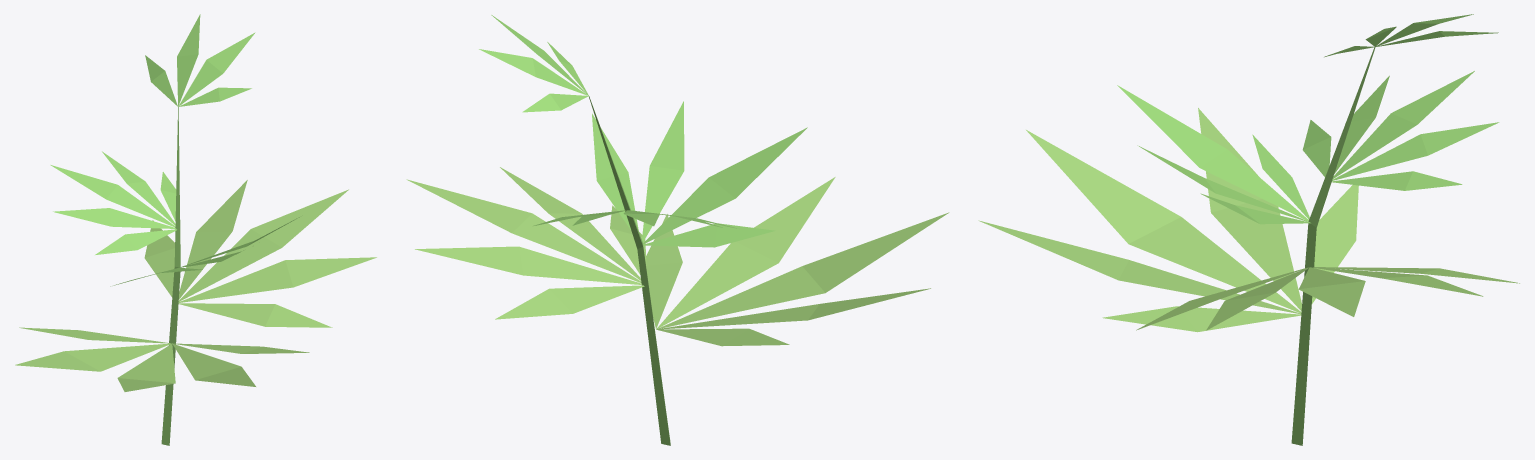
The model's file is Plant_i_TwoS_03.fbx.
The picture shows the model from 3 angles, left to right: view 1: azimuth 30°, elevation 25°; view 2: azimuth 150°, elevation 25°; view 3: azimuth 270°, elevation 25°; orthographic projection. The views are drawn at different scales.
Visible parts, largest first — view 1: Plant_i_TwoS_03; view 2: Plant_i_TwoS_03; view 3: Plant_i_TwoS_03.
Boxes of the visible parts, bbox=[...] form: Plant_i_TwoS_03: bbox=[15, 14, 376, 445]; Plant_i_TwoS_03: bbox=[406, 15, 949, 445]; Plant_i_TwoS_03: bbox=[978, 14, 1519, 445].
Size of the model in its own units: 0.4252 by 0.3731 by 0.3708.
